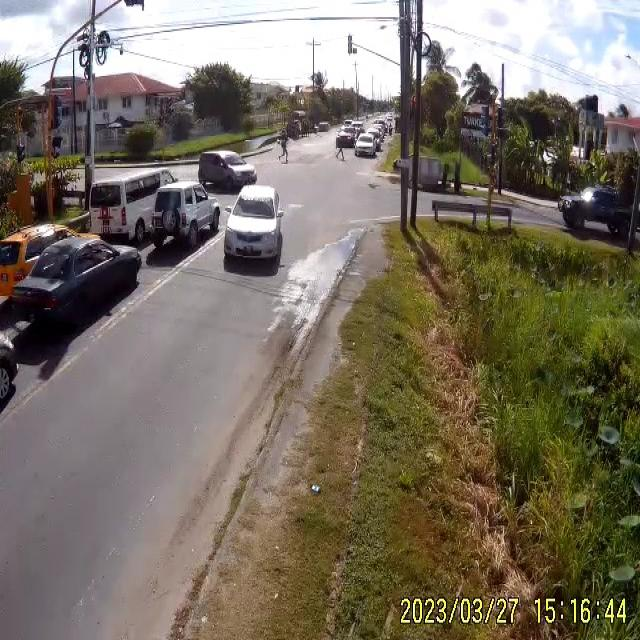car: (4, 231, 140, 337), (90, 167, 188, 246), (0, 223, 81, 300), (225, 186, 285, 273), (153, 180, 221, 244), (560, 186, 628, 234), (198, 150, 255, 192), (356, 133, 378, 156), (335, 129, 357, 147)
person: (278, 132, 292, 165)
